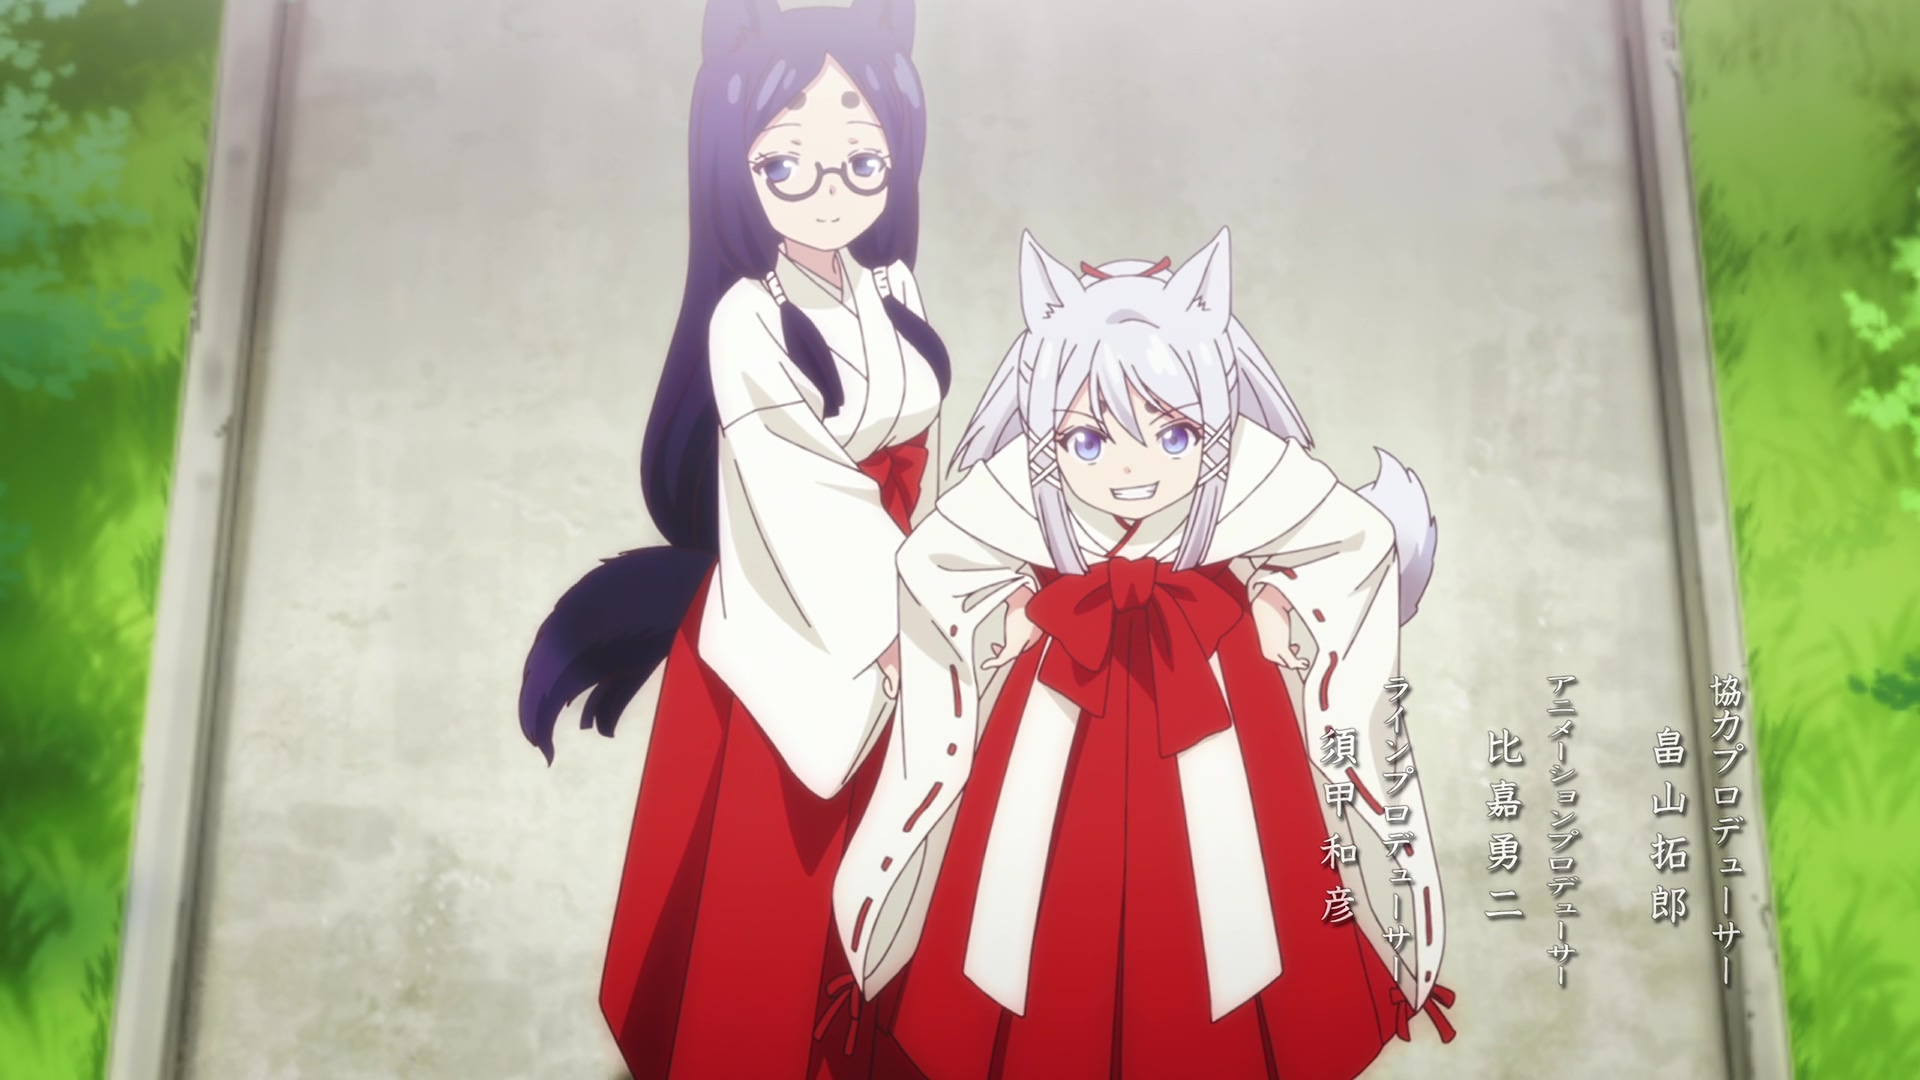柊: (832, 224, 1457, 1080)
菖: (518, 1, 952, 1080)
